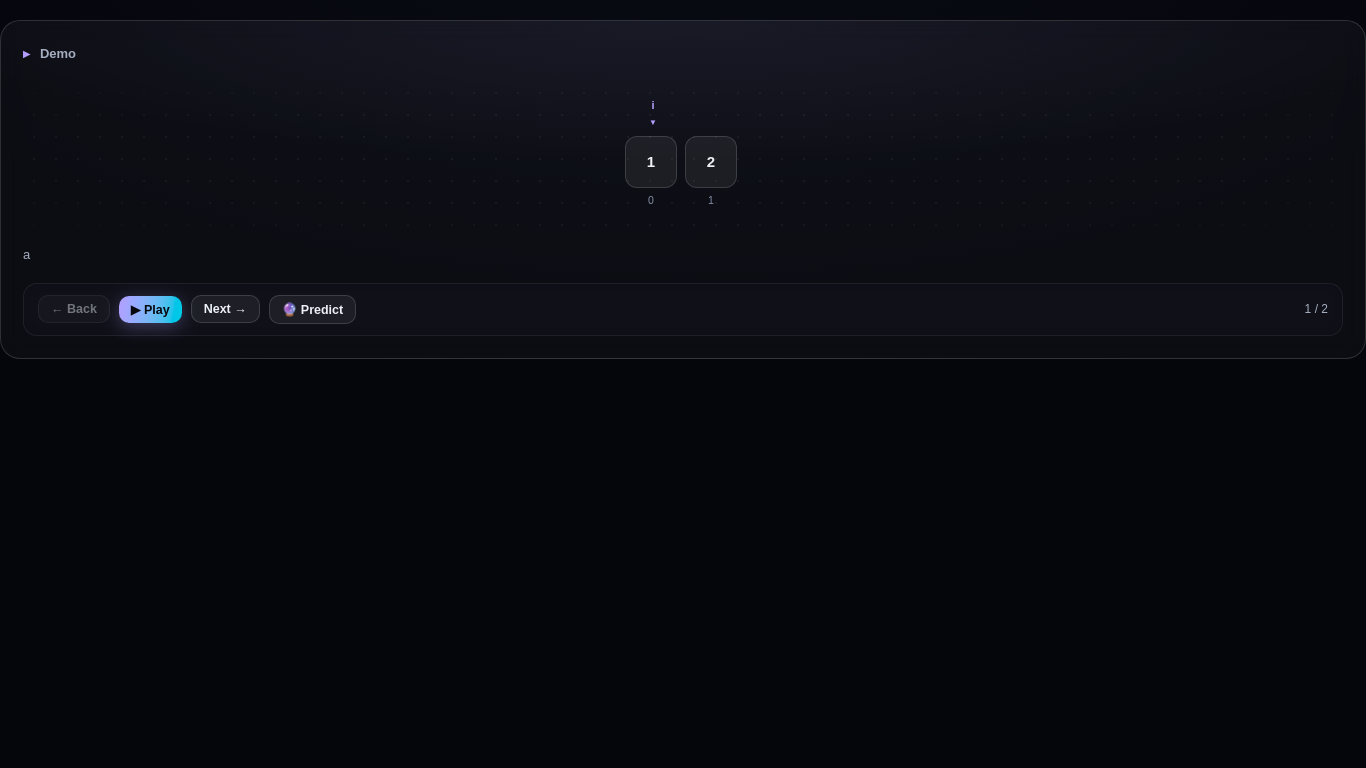
(8) feedback names the axis a wrong pick got wrong › reports a pointers-only difference
This screenshot has width=1366, height=768.
Click the button "🔮 Predict" at (313,309), box [269, 295, 356, 324]
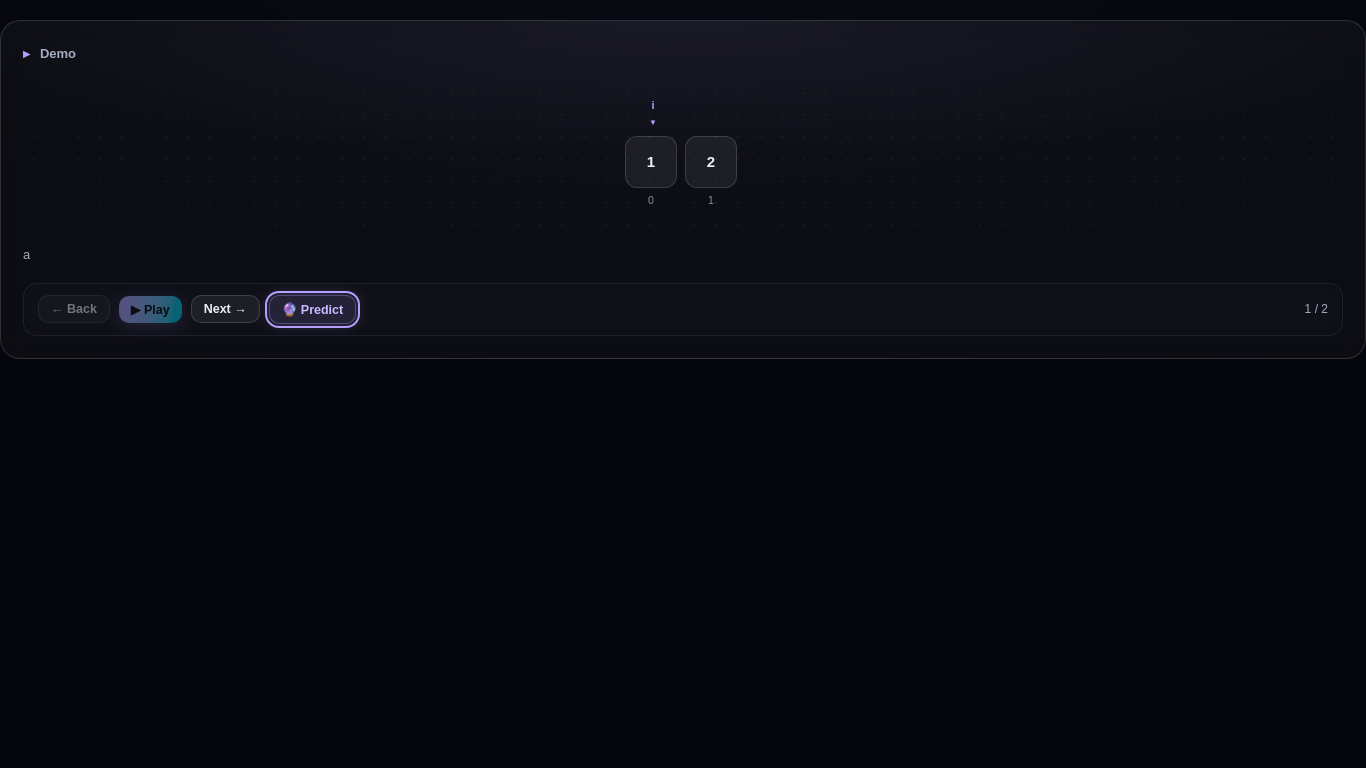
Click the button "Next →" at (225,309), box [191, 295, 260, 323]
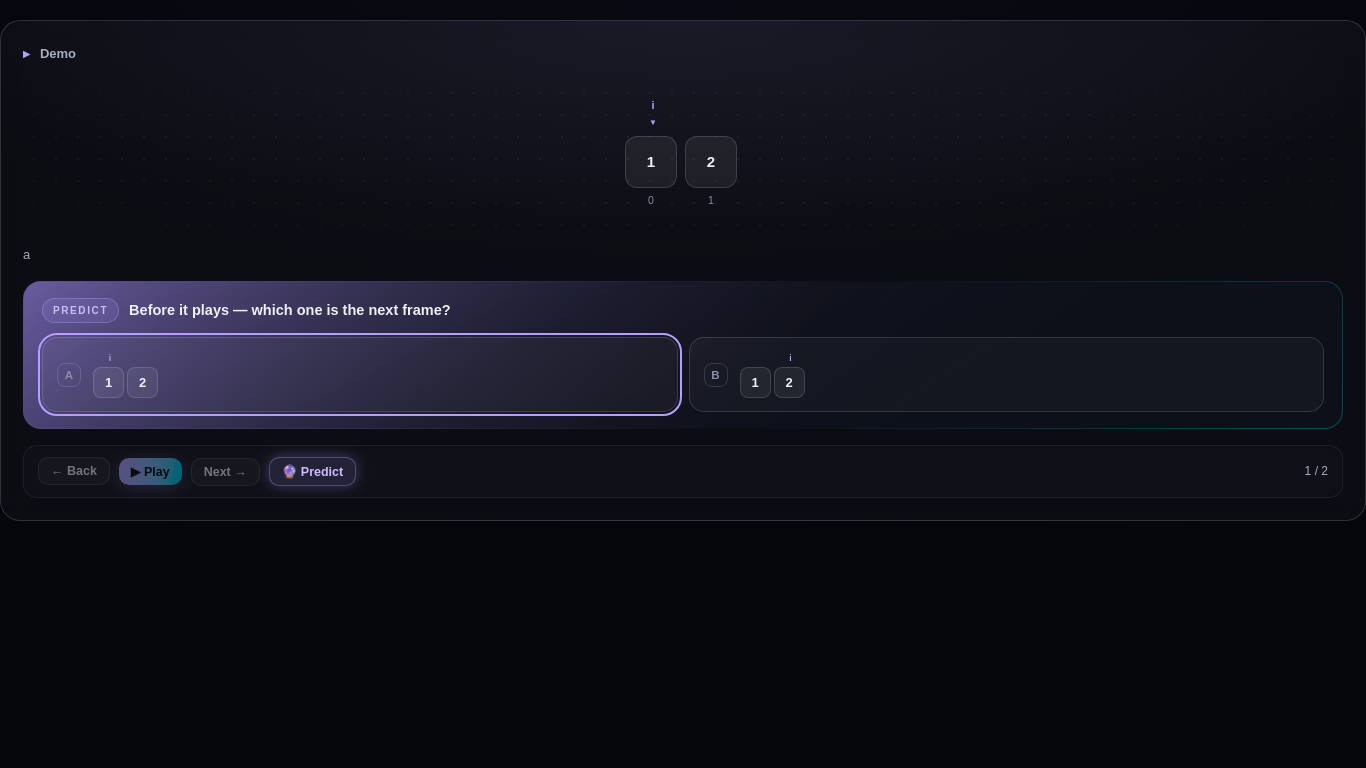
Click the button "A i 1 2" at (108,383), box [42, 337, 678, 412]
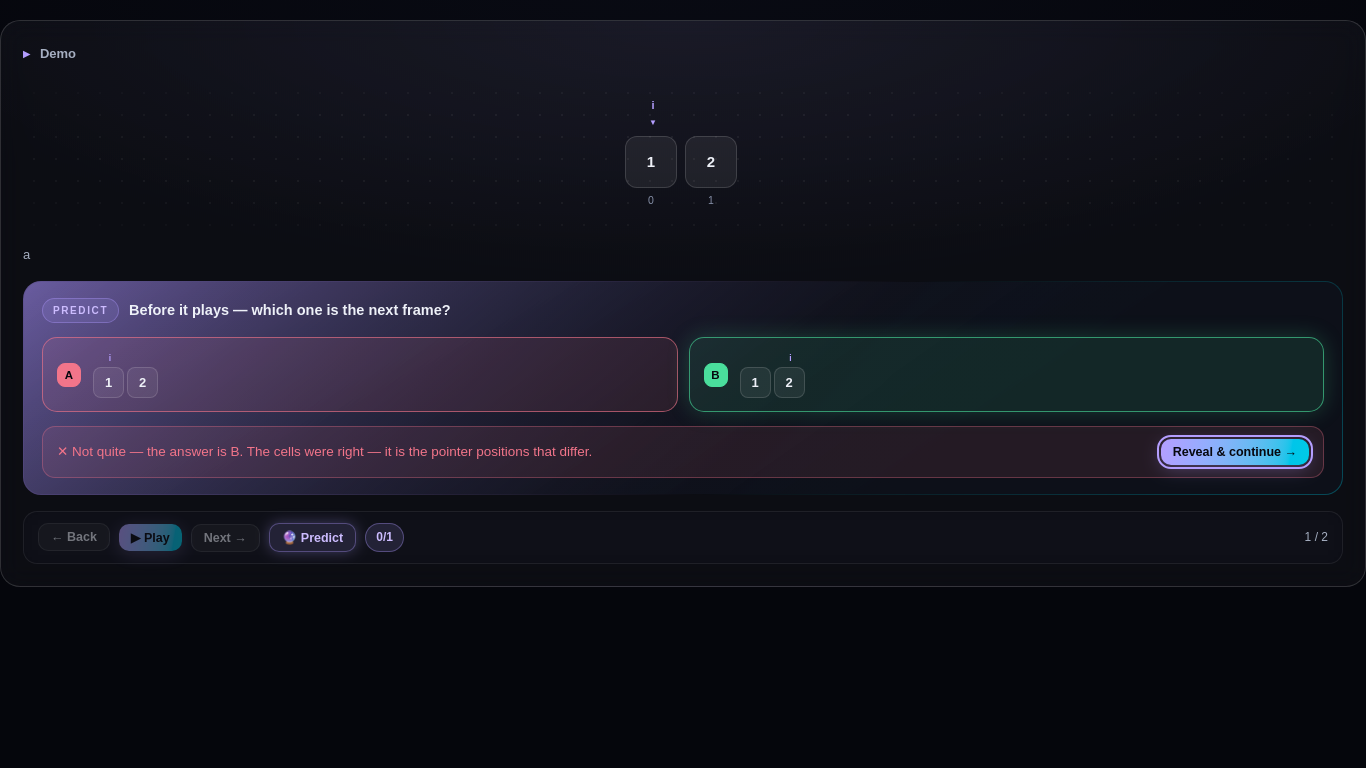
Expected: the text "it is the pointer positions" is shown, [247, 444, 592, 460]
